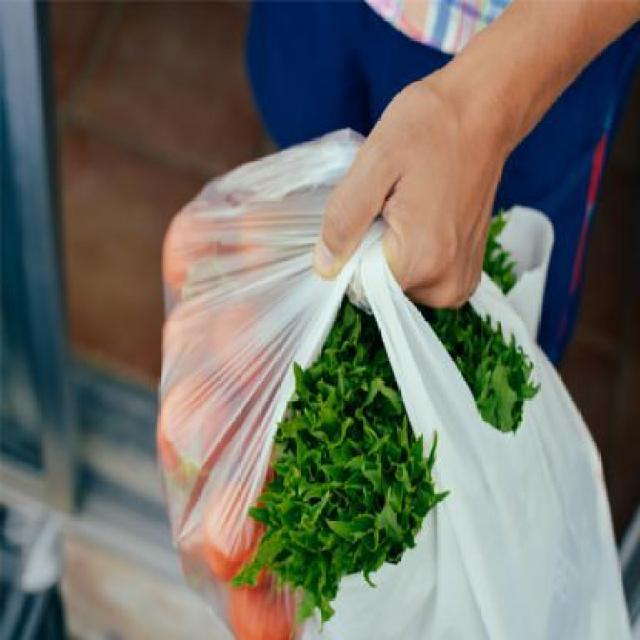plastic bag: (149, 119, 639, 638)
